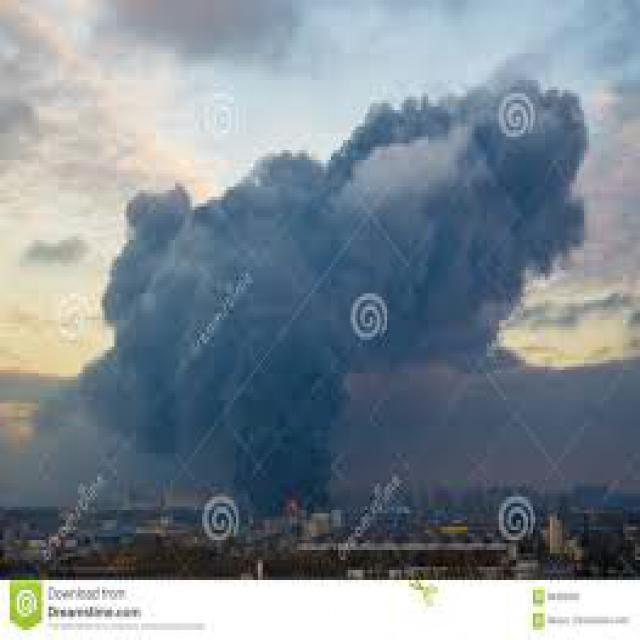Smoke: (91, 74, 594, 493)
